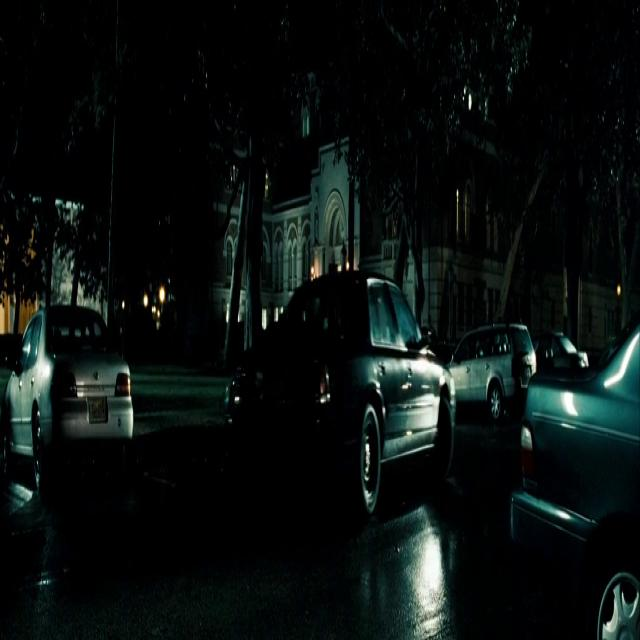Car: (173, 224, 484, 559), (450, 176, 640, 640), (0, 322, 162, 574)
